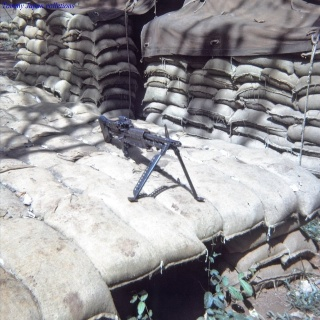rifle: (99, 113, 182, 156)
